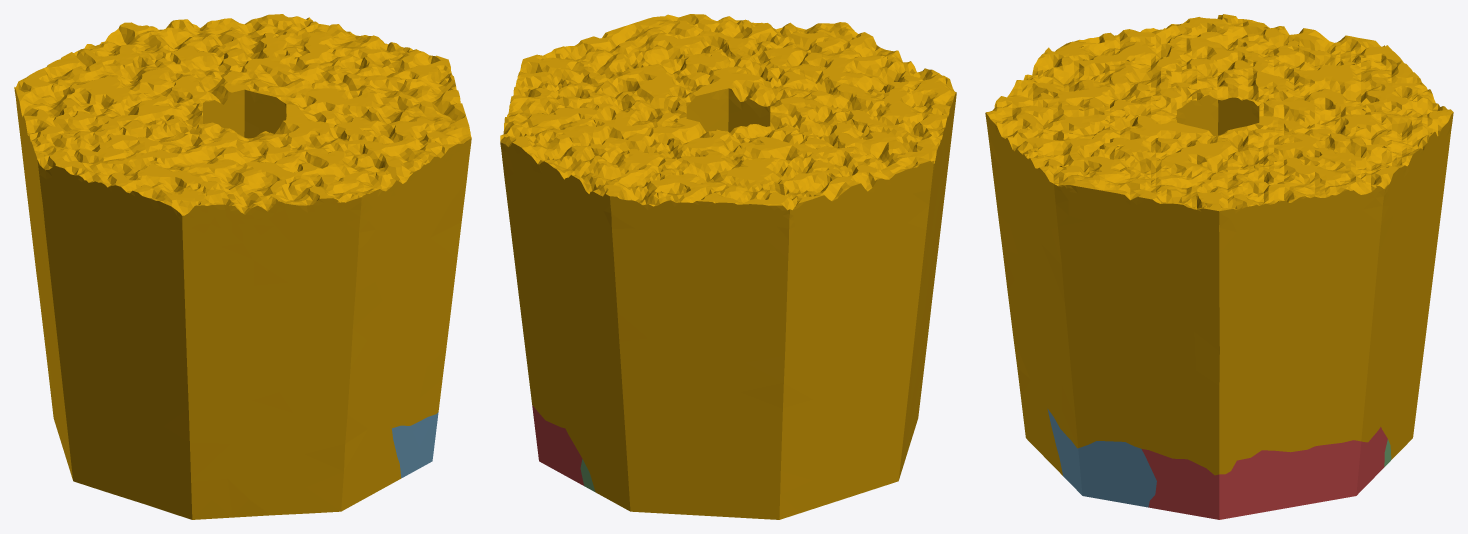
File: fractured_41_4pcs.glb
The picture shows the model from 3 angles, left to right: view 1: azimuth 30°, elevation 25°; view 2: azimuth 150°, elevation 25°; view 3: azimuth 270°, elevation 25°; orthographic projection.
Visible parts, largest first — view 1: piece_0.obj, piece_2.obj; view 2: piece_0.obj, piece_1.obj; view 3: piece_0.obj, piece_1.obj, piece_2.obj.
Boxes of the visible parts, x1,y1,x2,y2 form: piece_0.obj: [14, 14, 471, 519]; piece_2.obj: [392, 412, 438, 478]; piece_0.obj: [500, 14, 956, 519]; piece_1.obj: [532, 405, 583, 485]; piece_0.obj: [985, 14, 1453, 475]; piece_1.obj: [1141, 427, 1387, 519]; piece_2.obj: [1047, 409, 1156, 507].
Bounding box in the file's own units: 0.999 × 0.768 × 1.
